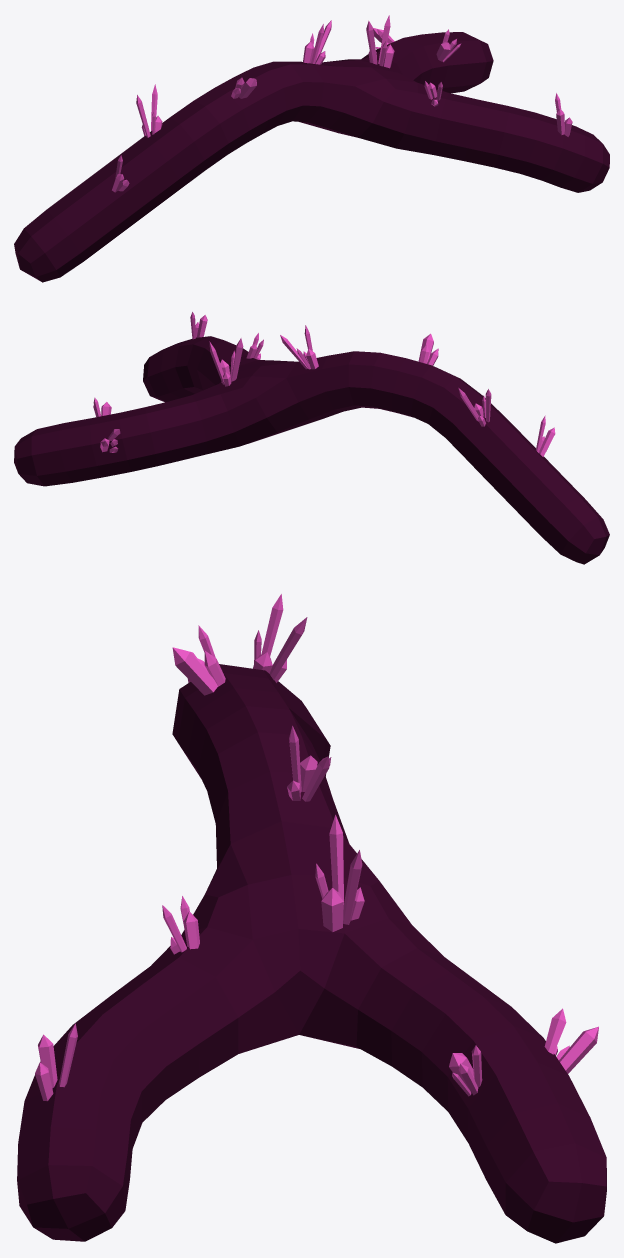
File: roots_4.fbx
3 views of the same model, one above another, from view 1: azimuth 30°, elevation 25°; view 2: azimuth 150°, elevation 25°; view 3: azimuth 270°, elevation 25° (orthographic). The views are drawn at different scales.
Visible parts, largest first — view 1: roots_4; view 2: roots_4; view 3: roots_4.
Boxes of the visible parts, <box> form: roots_4: <box>14,15,609,282</box>; roots_4: <box>14,312,609,564</box>; roots_4: <box>17,594,606,1243</box>.
Size of the model in its own units: 462 by 148 by 228.
